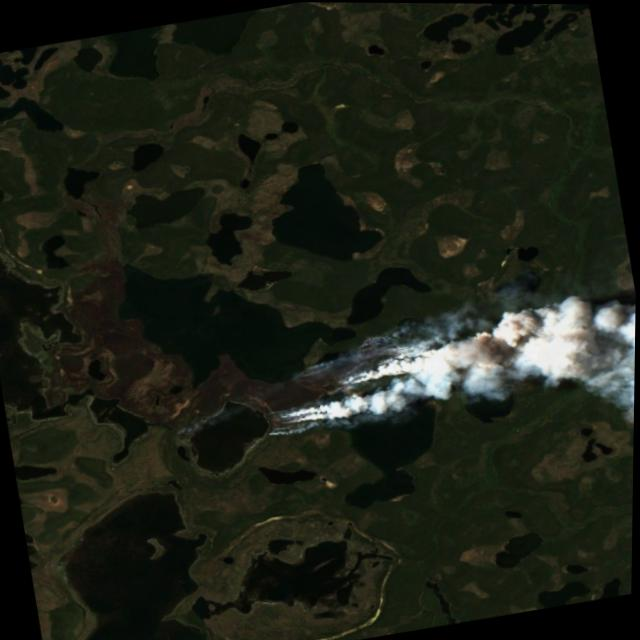fire: (258, 304, 517, 439)
